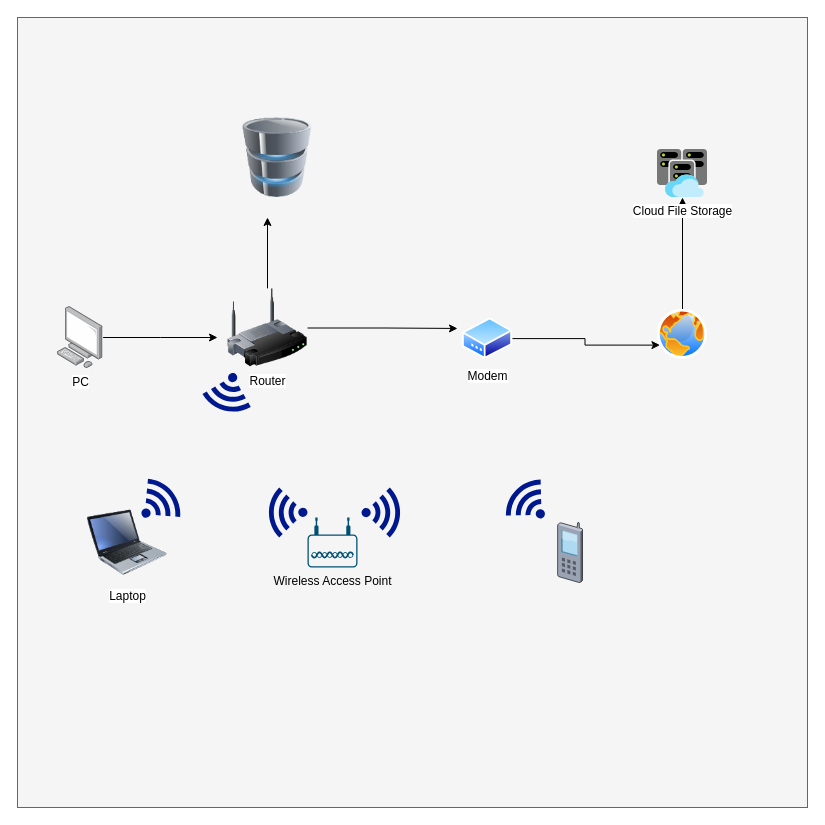
The diagram is 825 pixels wide and 825 high, and some of its shapes have lost their labels. Here are the shapes that lost their labels. From the top down, the box of each, then its label:
(237, 117, 317, 197): Network Attached Storage
(657, 309, 707, 359): Internet
(557, 522, 582, 582): Mobile Phone
